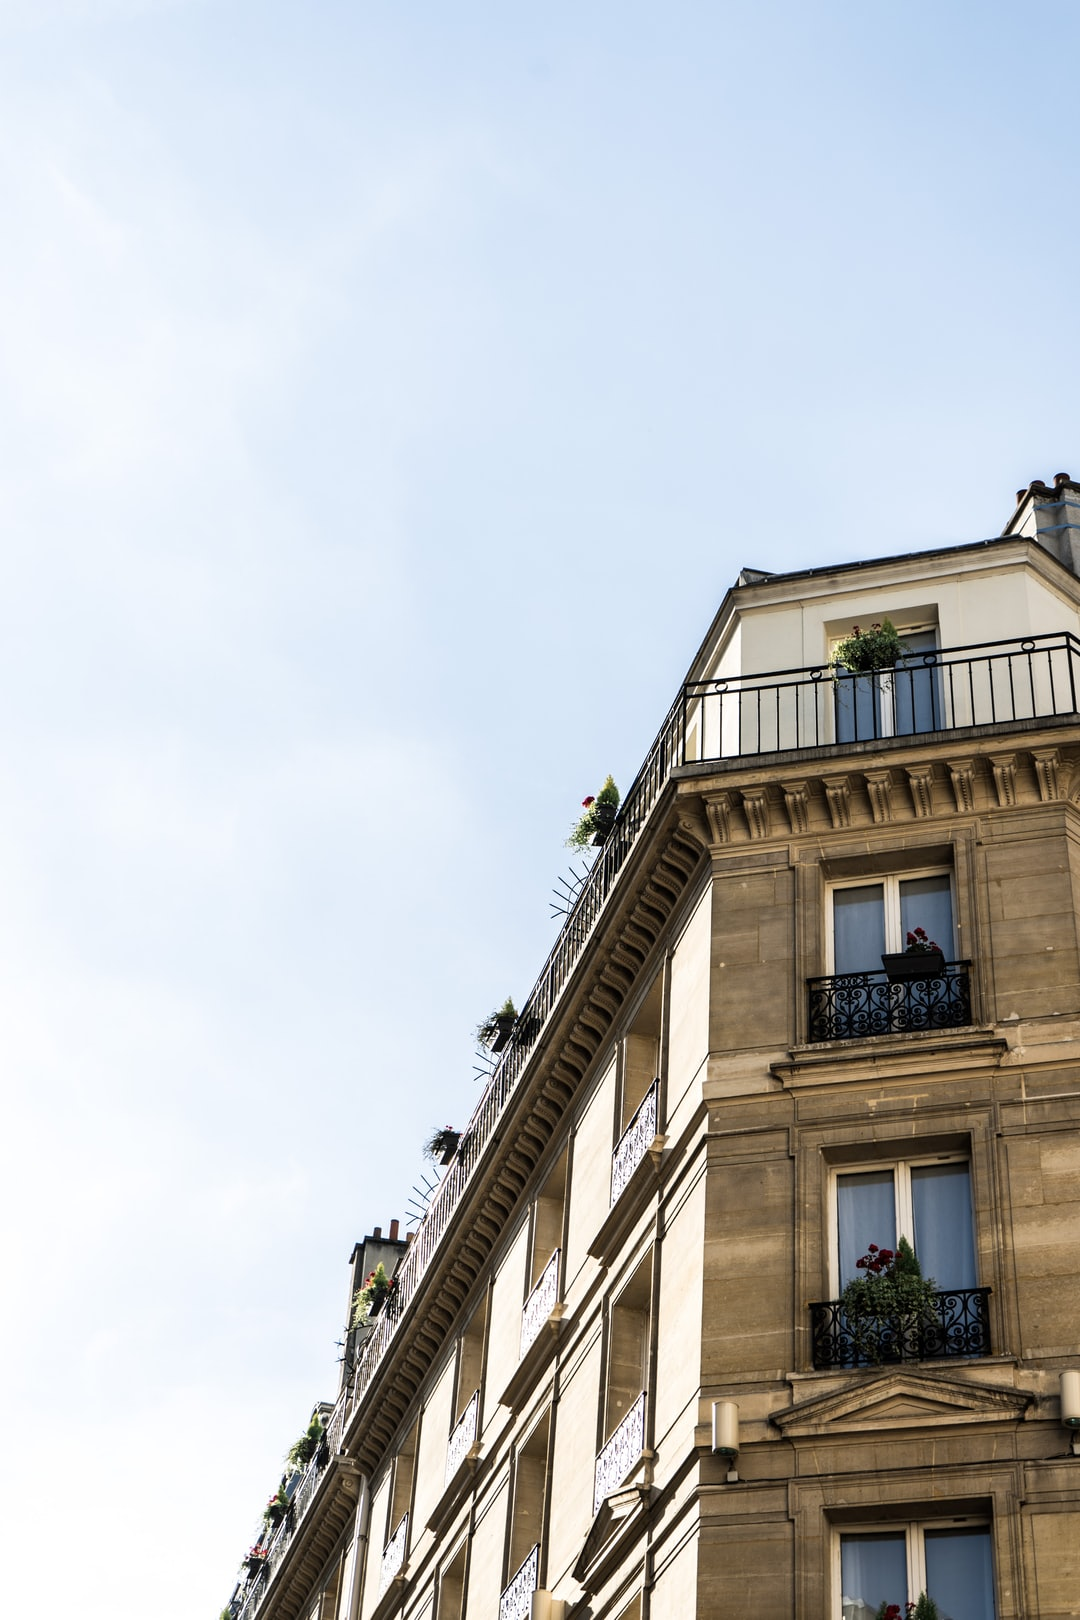house: (215, 485, 1080, 1618)
